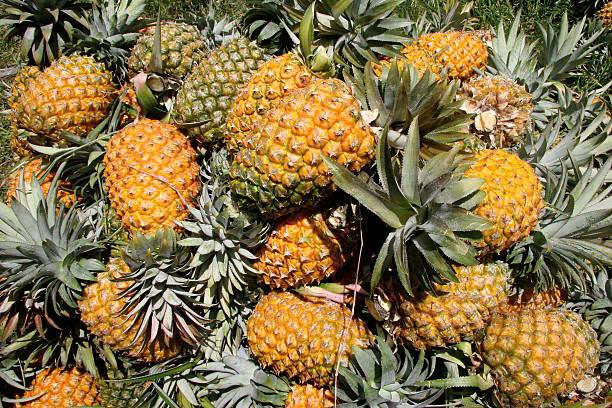pineapple: (224, 58, 374, 217), (401, 143, 543, 258), (68, 247, 206, 358), (488, 299, 599, 408), (101, 119, 200, 241), (242, 290, 376, 380), (387, 255, 515, 346)
